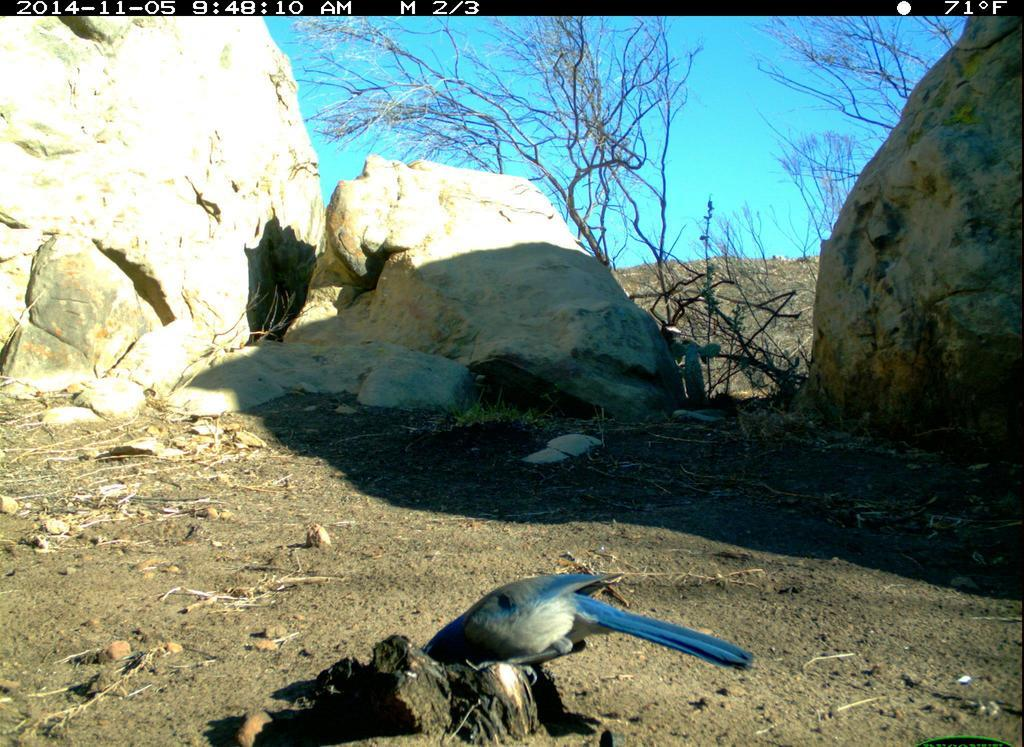bird: (411, 568, 758, 703)
